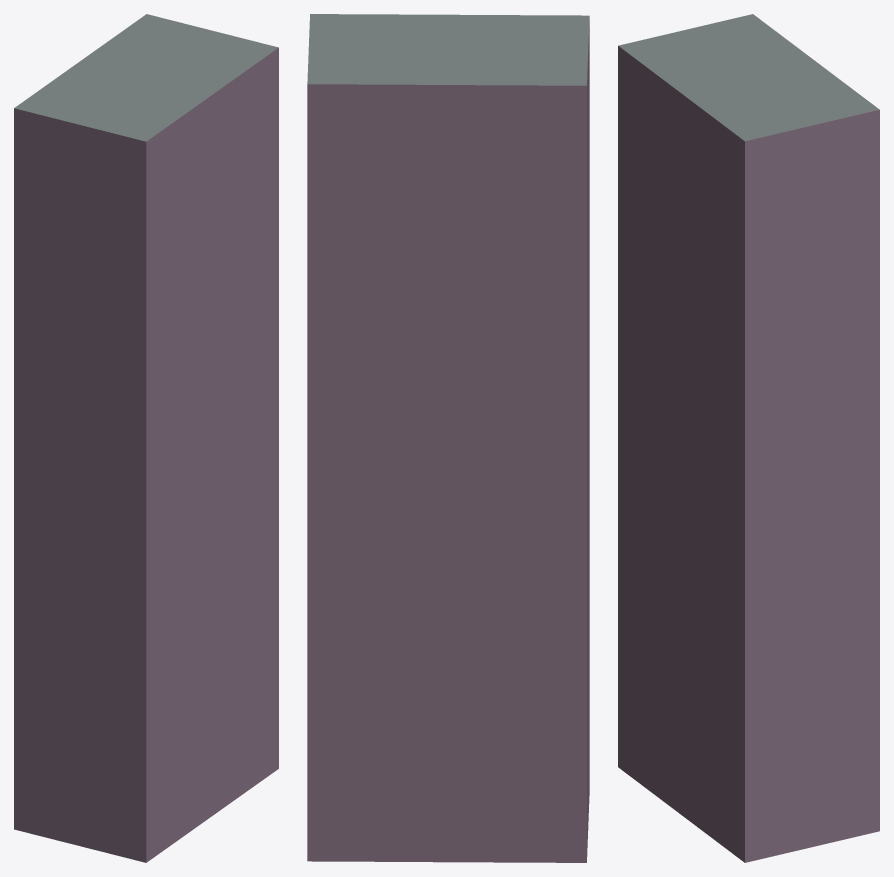
The model's file is nyc-1087141-0.glb.
The picture shows the model from 3 angles, left to right: view 1: azimuth 30°, elevation 25°; view 2: azimuth 150°, elevation 25°; view 3: azimuth 270°, elevation 25°; orthographic projection. The views are drawn at different scales.
Visible parts, largest first — view 1: nyc-1087141-0; view 2: nyc-1087141-0; view 3: nyc-1087141-0.
Boxes of the visible parts, <box> form: nyc-1087141-0: <box>14,14,278,862</box>; nyc-1087141-0: <box>307,14,589,862</box>; nyc-1087141-0: <box>618,14,879,862</box>.
Bounding box in the file's own units: 61.27 × 162 × 53.2.
